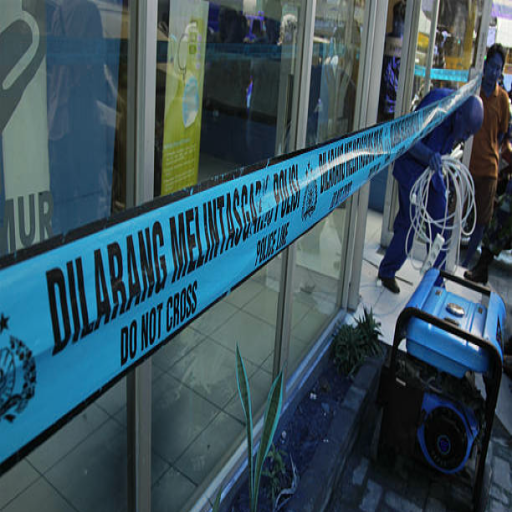portable_generator: (380, 268, 507, 511)
